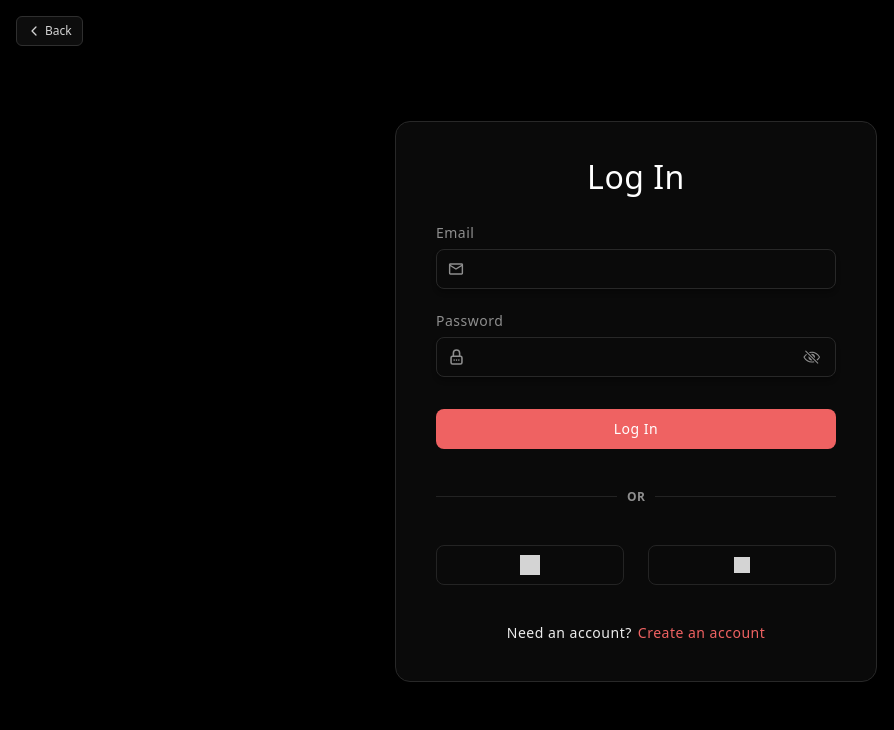
Test: LogInContainer › Google OAuth Login › handles OAuth login when user doesn't exist (shows helpful error)
Step 1. Click the button named "Sign in with Google" → (530, 564), box 436,544 -> 624,584
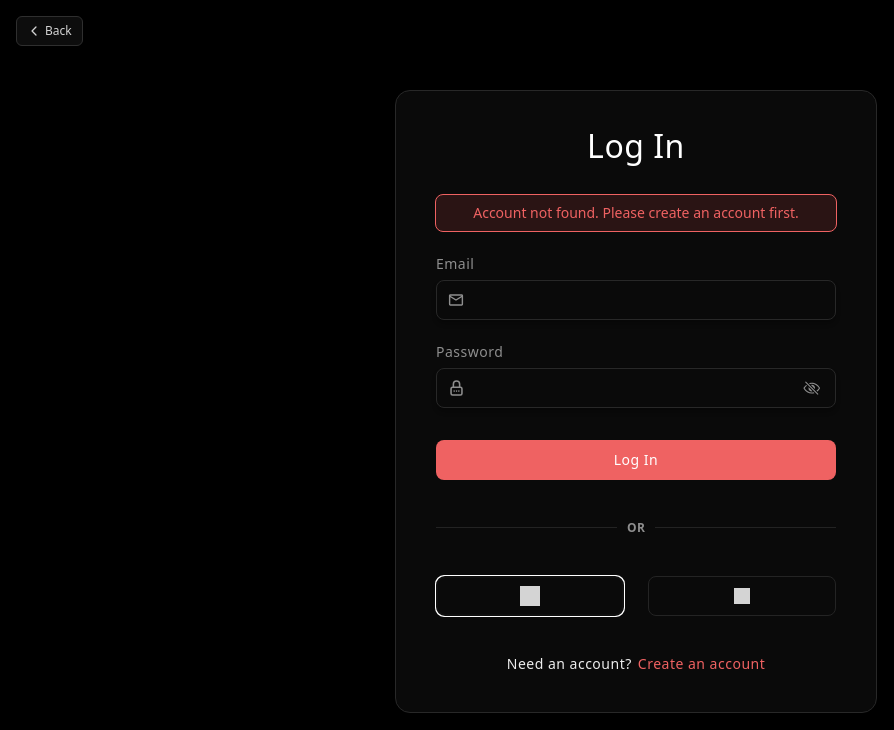
Expected: the text "Account not found. Please create an account first." is shown, 435,194 -> 837,232
